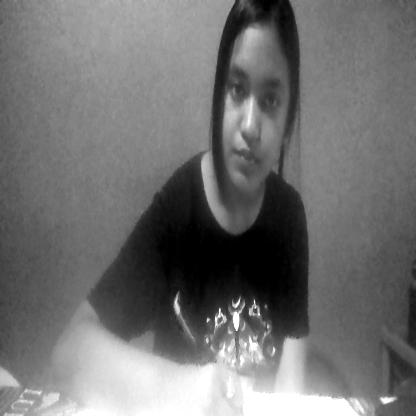Normal: (219, 37, 290, 190)
